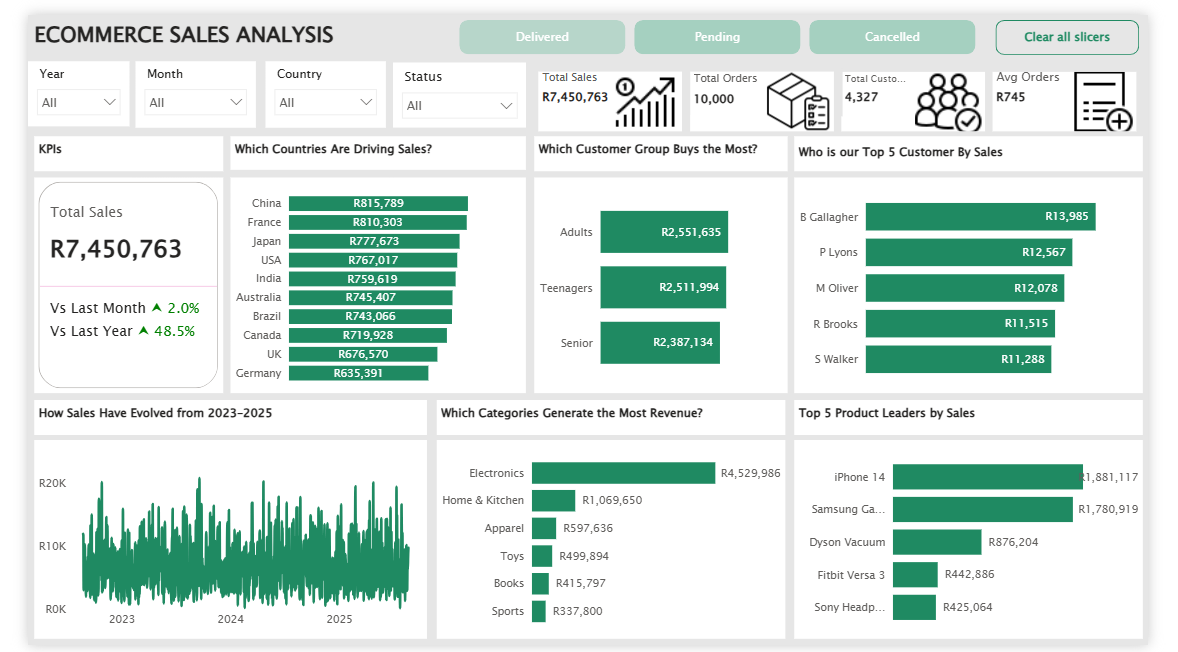

The page's visual inventory and layout, read from the dashboard file:
{"tool":"powerbi","page":{"name":"Overview","canvas":[1280,720],"ordinal":0},"visuals":[{"type":"cardVisual","fields":{"Data":["My Measures.Total Sales","My Measures.Total Orders","My Measures.Total Customers","My Measures.Avg Order Values"]},"box":[577.9,53.1,702.1,74.8],"z":0,"group":"g1"},{"type":"barChart","fields":{"Category":["eCommerceData.country"],"Y":["My Measures.Total Sales"]},"box":[231.6,185.8,337.8,246.1],"z":0},{"type":"group","id":"g1","title":"Group 1","box":[577.9,53.1,702.1,74.8],"z":1000},{"type":"barChart","fields":{"Y":["My Measures.Total Sales"],"Category":["eCommerceData.category"]},"box":[466.9,486.2,398.1,226.8],"z":2000},{"type":"barChart","fields":{"Y":["My Measures.Total Sales"],"Category":["eCommerceData.product_name"]},"box":[875.9,486.2,398.1,226.8],"z":3000},{"type":"shape","box":[702.3,60.9,105.7,54.3],"z":3500,"group":"g1"},{"type":"shape","box":[1051.9,61.5,107.7,54.3],"z":4000,"group":"g1"},{"type":"barChart","fields":{"Y":["My Measures.Total Sales"],"Category":["eCommerceData.Full Name"]},"box":[875.9,185.8,398.1,246.1],"z":4000},{"type":"shape","box":[877.1,62.2,105.7,54.3],"z":4500,"group":"g1"},{"type":"lineChart","fields":{"Y":["My Measures.Total Sales"],"Category":["DateTable.Date"]},"box":[7.2,486.2,448.8,226.8],"z":5000},{"type":"slicer","fields":{"Values":["eCommerceData.country"]},"box":[271.4,53.1,137.5,76],"z":6000},{"type":"slicer","fields":{"Values":["DateTable.Year"]},"box":[0,53.1,115.8,74.8],"z":7000},{"type":"slicer","fields":{"Values":["DateTable.Month Name"]},"box":[123.1,53.1,137.5,76],"z":8000},{"type":"cardVisual","fields":{"Data":["My Measures.Total Sales"]},"box":[7.2,185.8,216,246.1],"z":9000},{"type":"textbox","box":[7.2,138.7,216,39.8],"z":10000},{"type":"textbox","box":[231.6,138.7,337.8,38.6],"z":11000},{"type":"textbox","box":[466.9,440.4,398.1,39.8],"z":12000},{"type":"textbox","box":[7.2,440.4,448.8,39.8],"z":13000},{"type":"textbox","box":[875.9,440.4,398.1,39.8],"z":14000},{"type":"textbox","box":[875.9,138.7,398.1,39.8],"z":15000},{"type":"clusteredBarChart","fields":{"Category":["eCommerceData.age_group"],"Y":["My Measures.Total Sales"]},"box":[577.9,185.8,289.5,246.1],"z":16000},{"type":"textbox","box":[577.9,138.7,289.5,39.8],"z":17000},{"type":"textbox","box":[7.2,0,435.5,54.3],"z":18000},{"type":"slicer","fields":{"Values":["eCommerceData.Group Status"]},"box":[417.4,54.3,152,74.8],"z":19000},{"type":"actionButton","box":[1106.3,6,164.1,39.8],"z":20000},{"type":"bookmarkNavigator","box":[493.4,6,591.2,39.8],"z":21000}]}

Visuals, with their boxes in screenshot pixels (x1, y1, x2, y2), scaled from the page's 1280x720 canvas onto the 1178x652 screenshot:
cardVisual - My Measures.Total Sales x My Measures.Total Orders: box(532, 48, 1177, 116)
barChart - eCommerceData.country x My Measures.Total Sales: box(213, 168, 524, 391)
"Group 1" group: box(532, 48, 1177, 116)
barChart - My Measures.Total Sales x eCommerceData.category: box(430, 440, 796, 646)
barChart - My Measures.Total Sales x eCommerceData.product_name: box(806, 440, 1172, 646)
shape: box(646, 55, 744, 104)
shape: box(968, 56, 1067, 105)
barChart - My Measures.Total Sales x eCommerceData.Full Name: box(806, 168, 1172, 391)
shape: box(807, 56, 904, 105)
lineChart - My Measures.Total Sales x DateTable.Date: box(7, 440, 420, 646)
slicer - eCommerceData.country: box(250, 48, 376, 117)
slicer - DateTable.Year: box(0, 48, 107, 116)
slicer - DateTable.Month Name: box(113, 48, 240, 117)
cardVisual - My Measures.Total Sales: box(7, 168, 205, 391)
textbox: box(7, 126, 205, 162)
textbox: box(213, 126, 524, 161)
textbox: box(430, 399, 796, 435)
textbox: box(7, 399, 420, 435)
textbox: box(806, 399, 1172, 435)
textbox: box(806, 126, 1172, 162)
clusteredBarChart - eCommerceData.age_group x My Measures.Total Sales: box(532, 168, 798, 391)
textbox: box(532, 126, 798, 162)
textbox: box(7, 0, 407, 49)
slicer - eCommerceData.Group Status: box(384, 49, 524, 117)
actionButton: box(1018, 5, 1169, 41)
bookmarkNavigator: box(454, 5, 998, 41)
